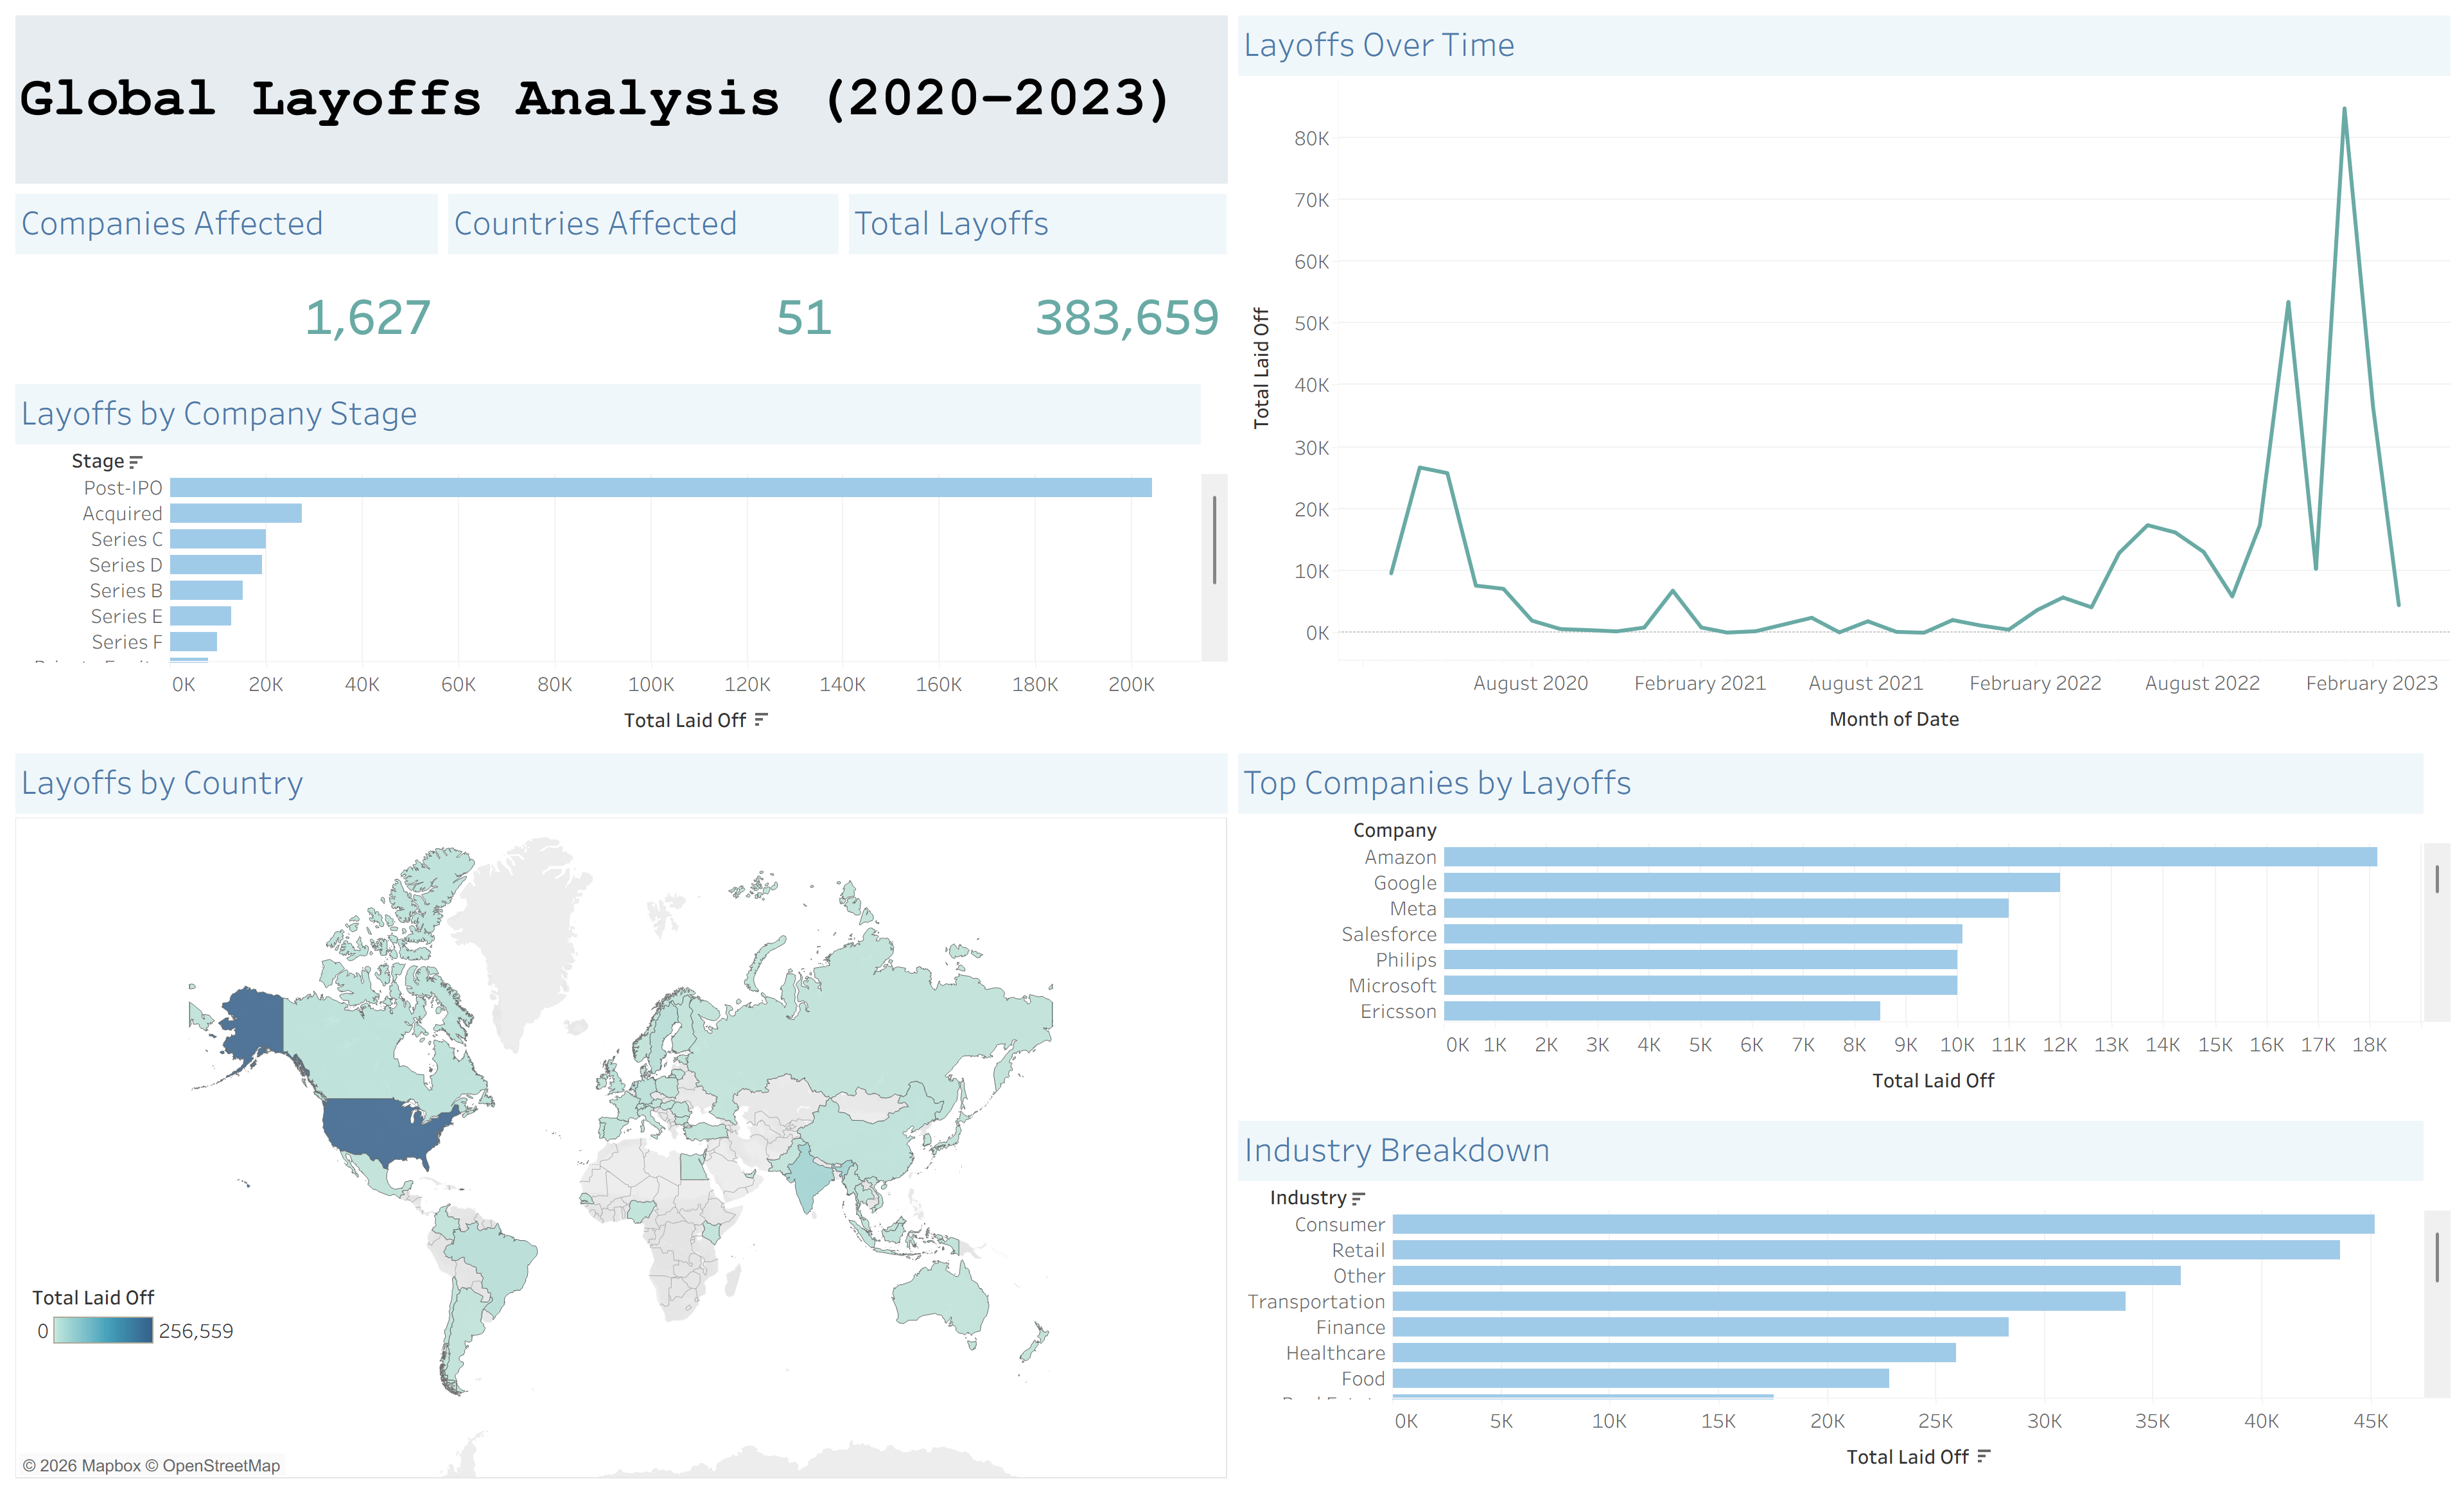

What the dashboard file says about the page in this screenshot:
{"tool":"tableau","page":{"name":"Global Layoffs Analysis (2020–2023)SQL + Tableau Project","canvas":[1000,1000],"units":"permille","ordinal":0},"visuals":[{"type":"title","box":[4.2,8.2,495.7,143]},{"type":"worksheet","title":"Layoffs Over Time","mark":"Line","rows":["total_laid_off"],"cols":["date"],"box":[499.9,8.2,495.8,491.8]},{"type":"worksheet","title":"Companies Affected","mark":"Automatic","box":[4.2,151.2,175.7,121.4]},{"type":"worksheet","title":"Countries Affected","mark":"Automatic","box":[180,151.2,162.5,121.4]},{"type":"worksheet","title":"Total Layoffs","mark":"Text","box":[342.4,151.2,157.5,121.4]},{"type":"worksheet","title":"Top Companies by Layoffs","mark":"Automatic","rows":["company"],"cols":["total_laid_off"],"box":[4.2,272.6,495.7,227.4]},{"type":"worksheet","title":"Layoffs by Country","mark":"Automatic","box":[4.2,500,495.7,491.8]},{"type":"worksheet","title":"Industry Breakdown","mark":"Automatic","box":[499.9,500,495.8,491.8]},{"type":"legend","title":"Layoffs by Country","param":"[federated.1i1glsc0a1imnj10ggg311bah6b6].[sum:total_laid_off:qk]","box":[13.3,859.1,84.5,90.5]}]}

Visuals, with their boxes on the dashboard's canvas, which has no fixed pixel size, in thousandths of its width and height (x1, y1, x2, y2). These are canvas units, not pixel positions in the 2464x1490 screenshot, which may show the page scaled, cropped or inside an application window:
title: Rect(4, 8, 500, 151)
"Layoffs Over Time" worksheet (Line marks): Rect(500, 8, 996, 500)
"Companies Affected" worksheet: Rect(4, 151, 180, 273)
"Countries Affected" worksheet: Rect(180, 151, 342, 273)
"Total Layoffs" worksheet (Text marks): Rect(342, 151, 500, 273)
"Top Companies by Layoffs" worksheet: Rect(4, 273, 500, 500)
"Layoffs by Country" worksheet: Rect(4, 500, 500, 992)
"Industry Breakdown" worksheet: Rect(500, 500, 996, 992)
"Layoffs by Country" legend: Rect(13, 859, 98, 950)
